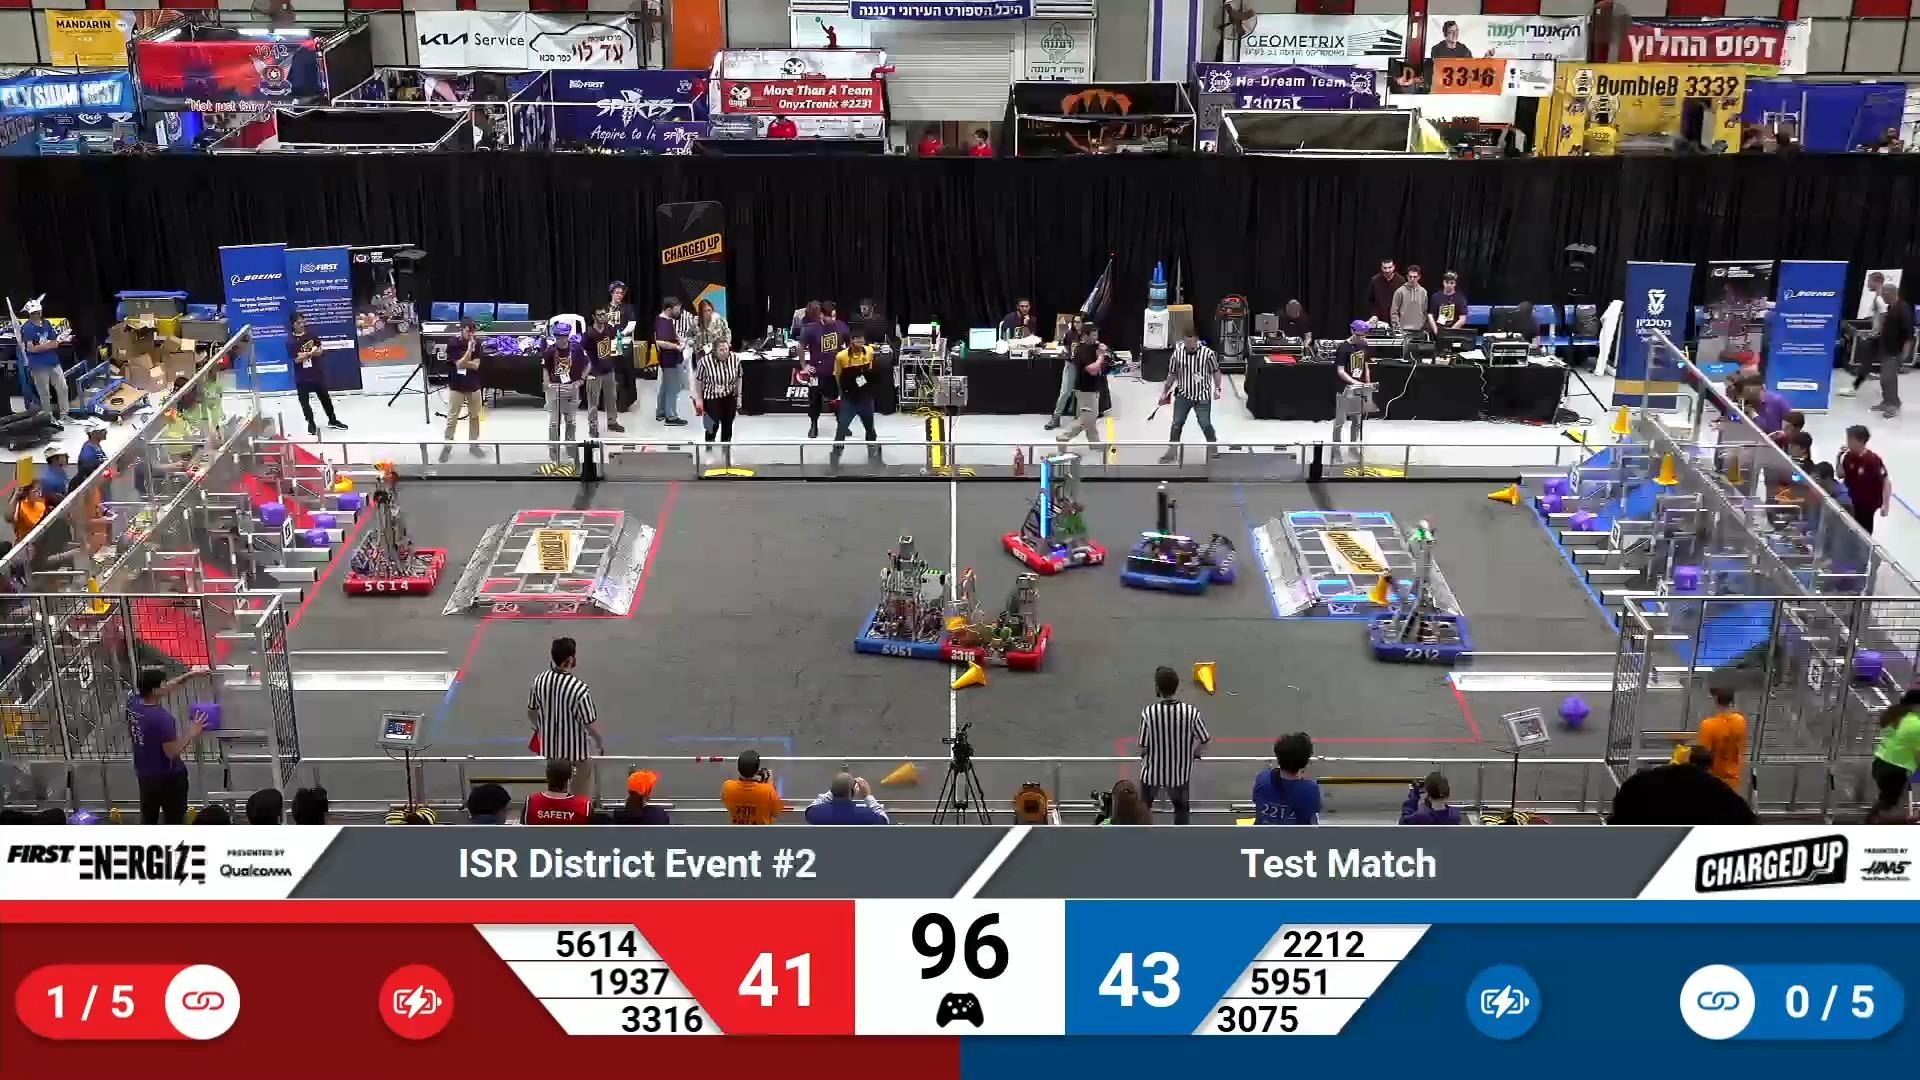robot: (1364, 516, 1473, 665), (856, 525, 968, 667), (1118, 477, 1228, 595), (1001, 454, 1106, 575), (344, 473, 444, 595), (943, 572, 1054, 673)
